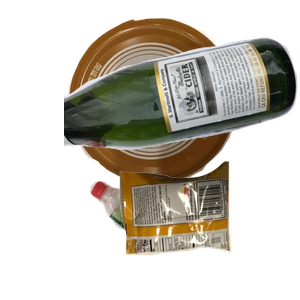glass: (64, 35, 300, 181)
metal: (66, 15, 297, 193)
plastic: (87, 178, 234, 300)
trash: (117, 159, 300, 300)
